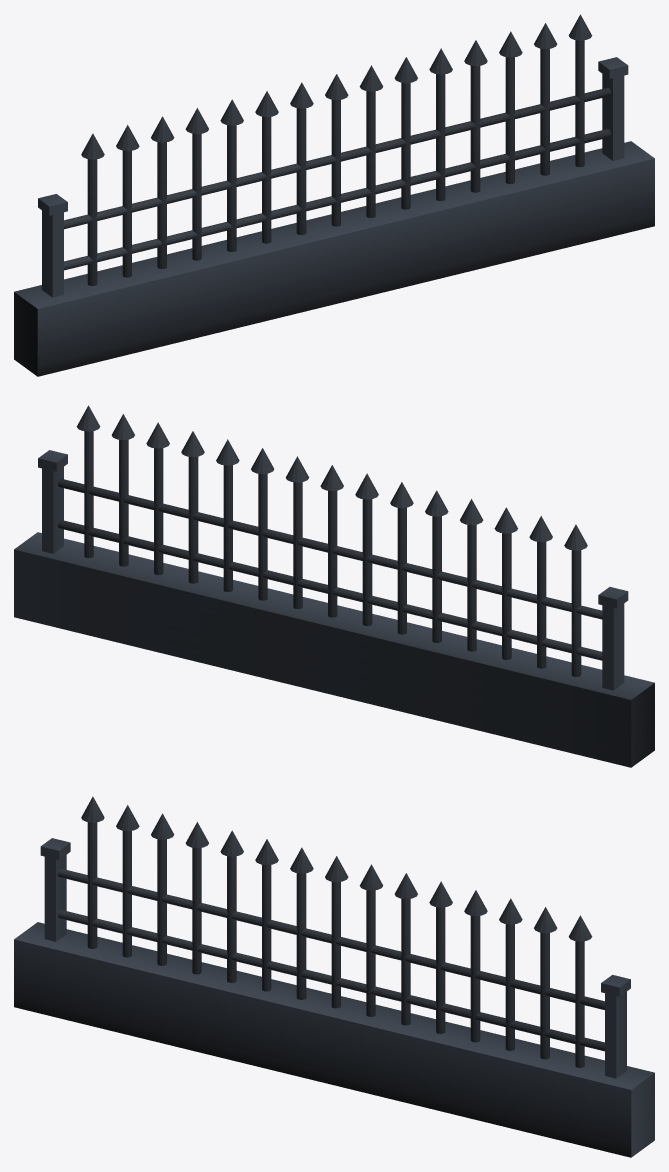
File: stone_metal_fence.fbx
The picture shows the model from 3 angles, top to bottom: view 1: azimuth 30°, elevation 25°; view 2: azimuth 150°, elevation 25°; view 3: azimuth 330°, elevation 25°; orthographic projection.
Visible parts, largest first — view 1: Cylinder.014; view 2: Cylinder.014; view 3: Cylinder.014.
Boxes of the visible parts, x1,y1,x2,y2 form: Cylinder.014: (14, 14, 654, 376); Cylinder.014: (14, 405, 654, 767); Cylinder.014: (14, 796, 654, 1157).
Size of the model in its own units: 600 by 203 by 40.
1 material, 1 textured.
